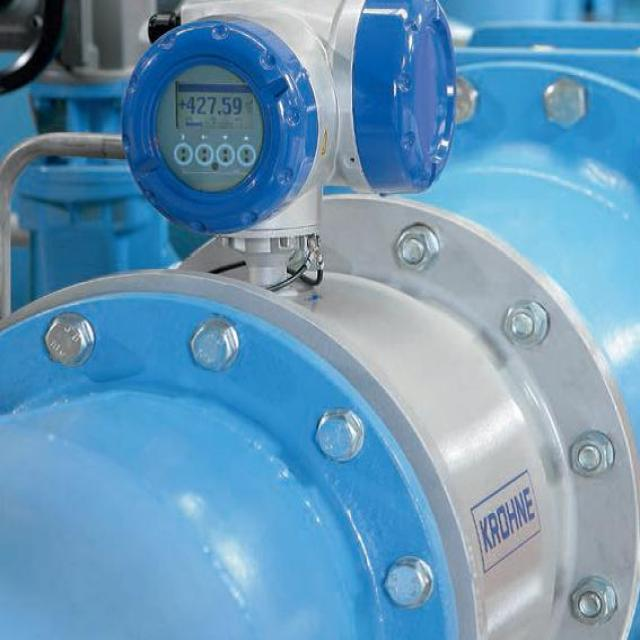blur bolt: (538, 74, 590, 130)
bolt head: (188, 318, 240, 374), (42, 314, 94, 369), (310, 408, 362, 463), (379, 560, 431, 610)
bolt nut: (569, 578, 614, 628), (394, 222, 437, 273), (502, 298, 545, 348), (568, 432, 610, 480)
